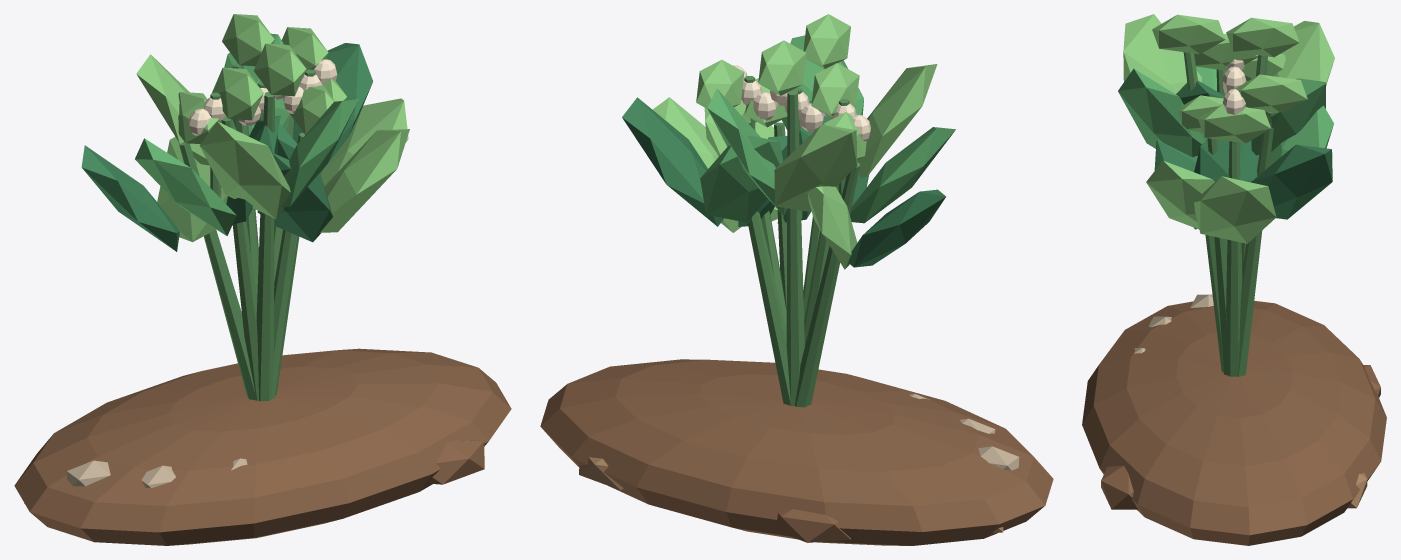
Rendered from (3)basil.fbx.
3 views of the same model, side by side, from view 1: azimuth 30°, elevation 25°; view 2: azimuth 150°, elevation 25°; view 3: azimuth 270°, elevation 25° (orthographic). The views are drawn at different scales.
Visible parts, largest first — view 1: Basil_Level_3; view 2: Basil_Level_3; view 3: Basil_Level_3.
Boxes of the visible parts, box(x1,y1,x2,y2) form: Basil_Level_3: box(14, 14, 511, 545); Basil_Level_3: box(540, 14, 1053, 545); Basil_Level_3: box(1082, 14, 1386, 545).
Size of the model in its own units: 281 by 262 by 159.
